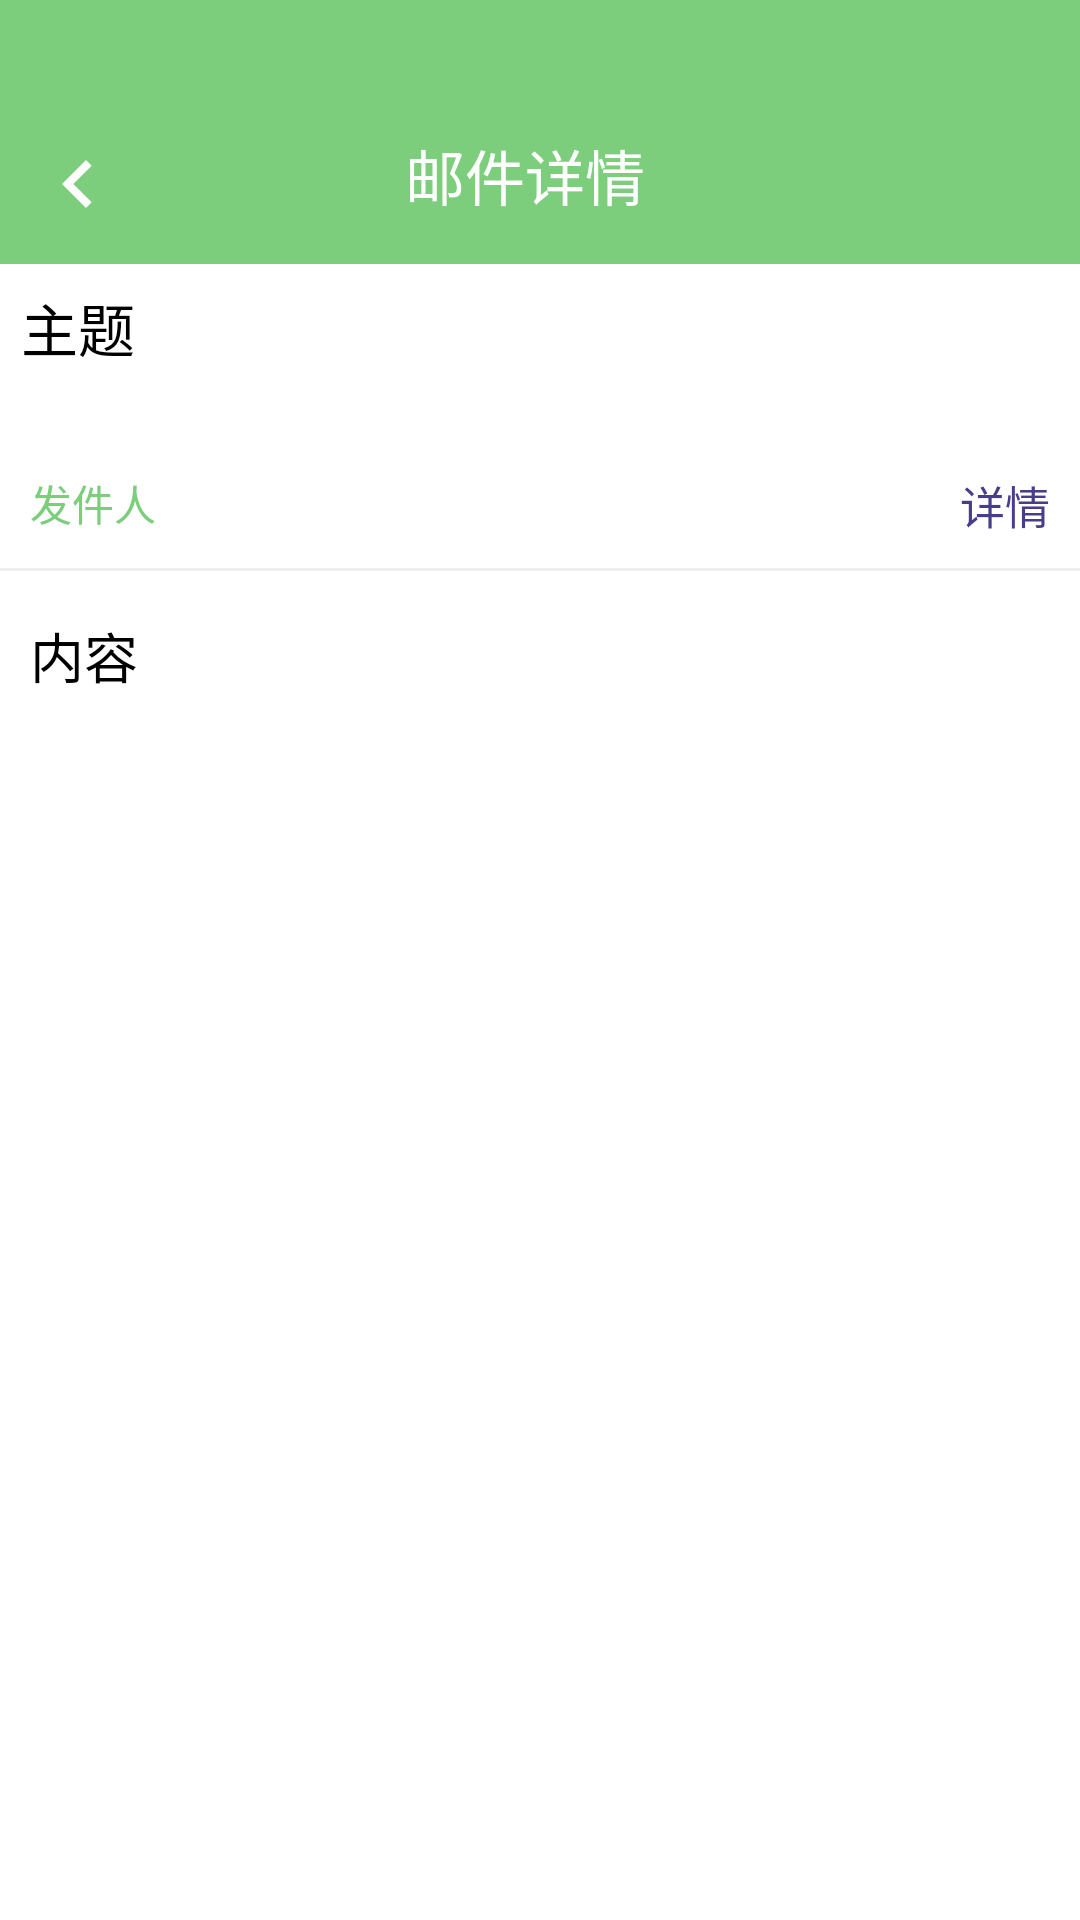

Icon click points for this 1080 x 1920 phone screenshot, format point (x, y):
keyboard arrow left: point (77, 184)
